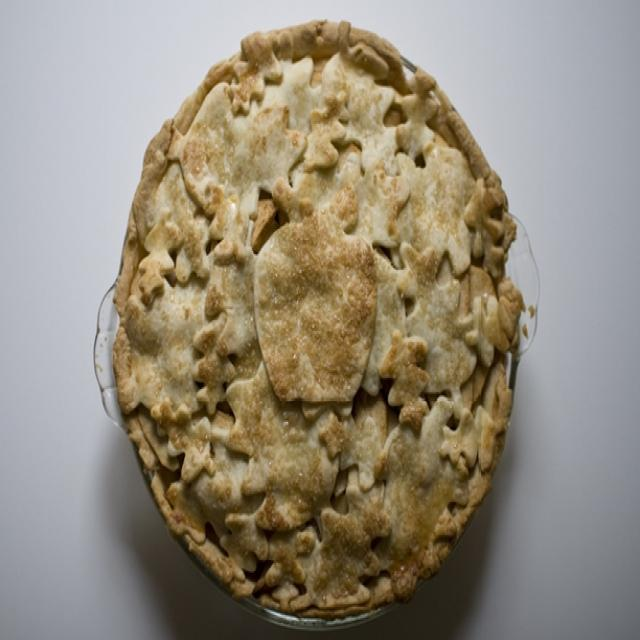Apple: (119, 22, 523, 602)
